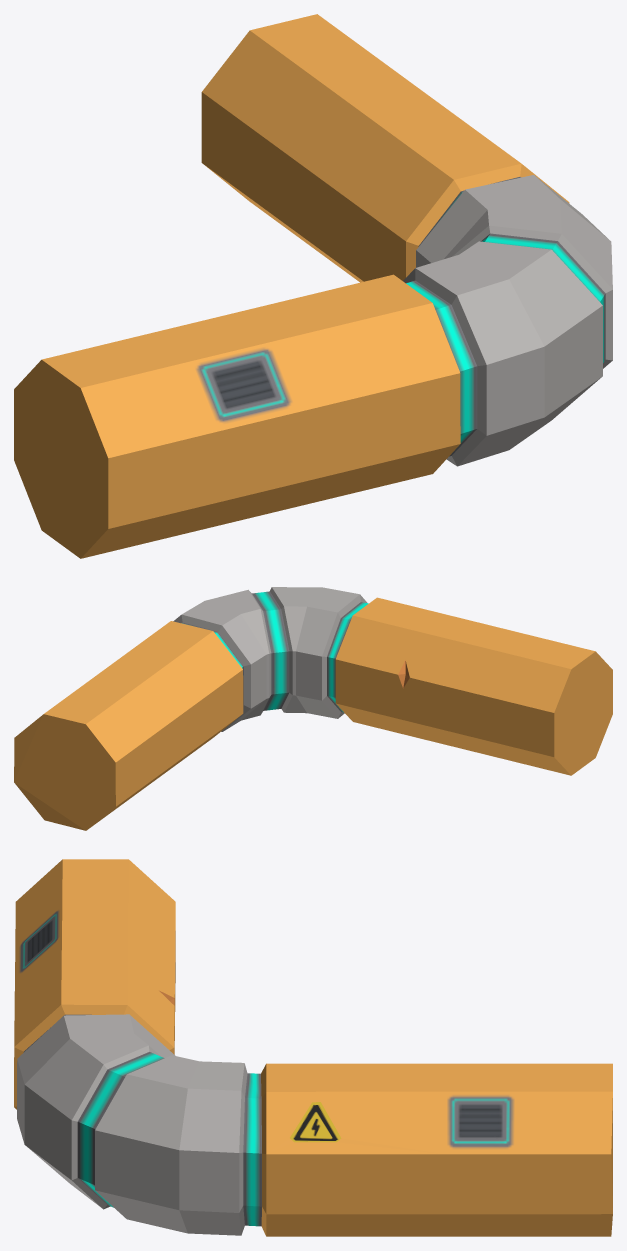
The model's file is SM_Bld_Pipe_Small_Bend_01.fbx.
3 views of the same model, one above another, from view 1: azimuth 30°, elevation 25°; view 2: azimuth 150°, elevation 25°; view 3: azimuth 270°, elevation 25° (orthographic). The views are drawn at different scales.
Parts seen in each view (by area): view 1: SM_Bld_Pipe_Small_Bend_01; view 2: SM_Bld_Pipe_Small_Bend_01; view 3: SM_Bld_Pipe_Small_Bend_01.
Part boxes in pixels (bbox=[...]): SM_Bld_Pipe_Small_Bend_01: bbox=[14, 14, 612, 558]; SM_Bld_Pipe_Small_Bend_01: bbox=[14, 587, 612, 830]; SM_Bld_Pipe_Small_Bend_01: bbox=[14, 859, 612, 1236].
Bounding box in the file's own units: 173 × 46.56 × 174.
